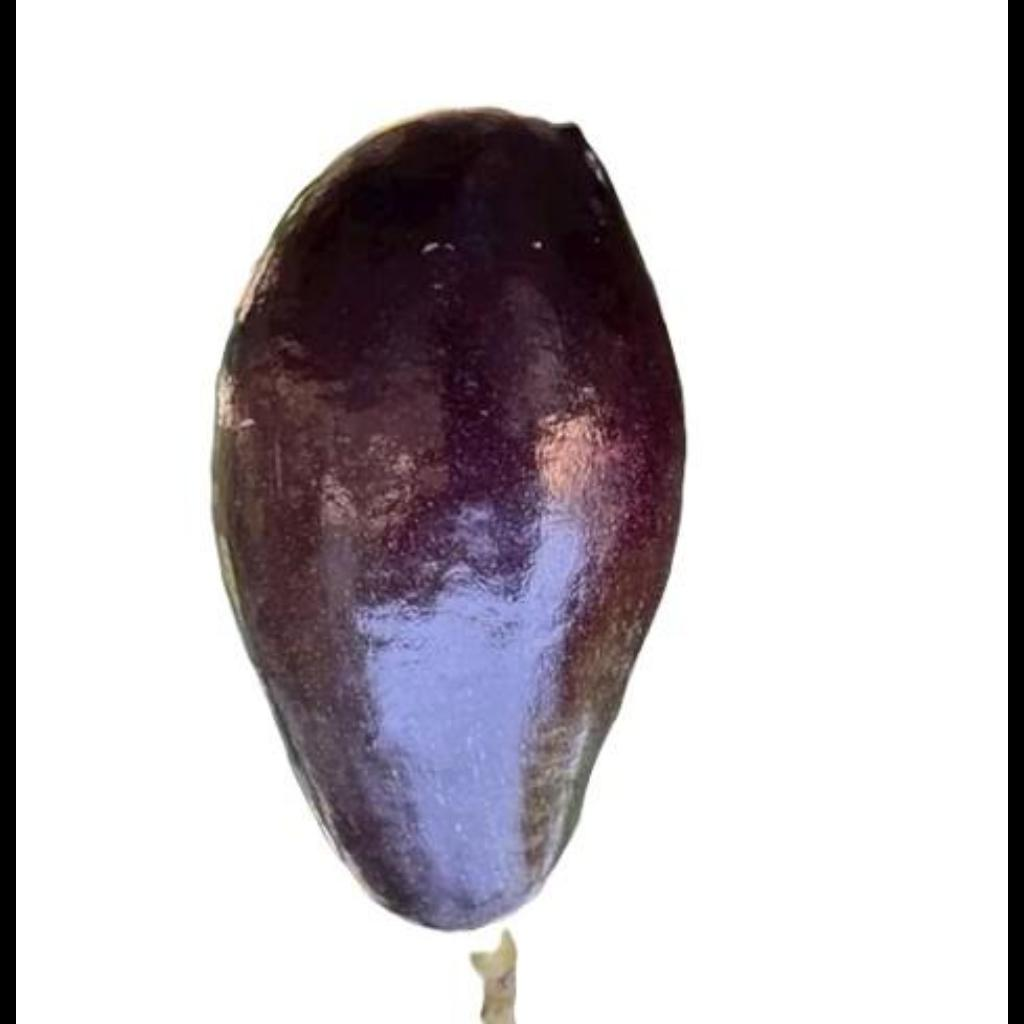Healthy: (208, 89, 708, 937)
